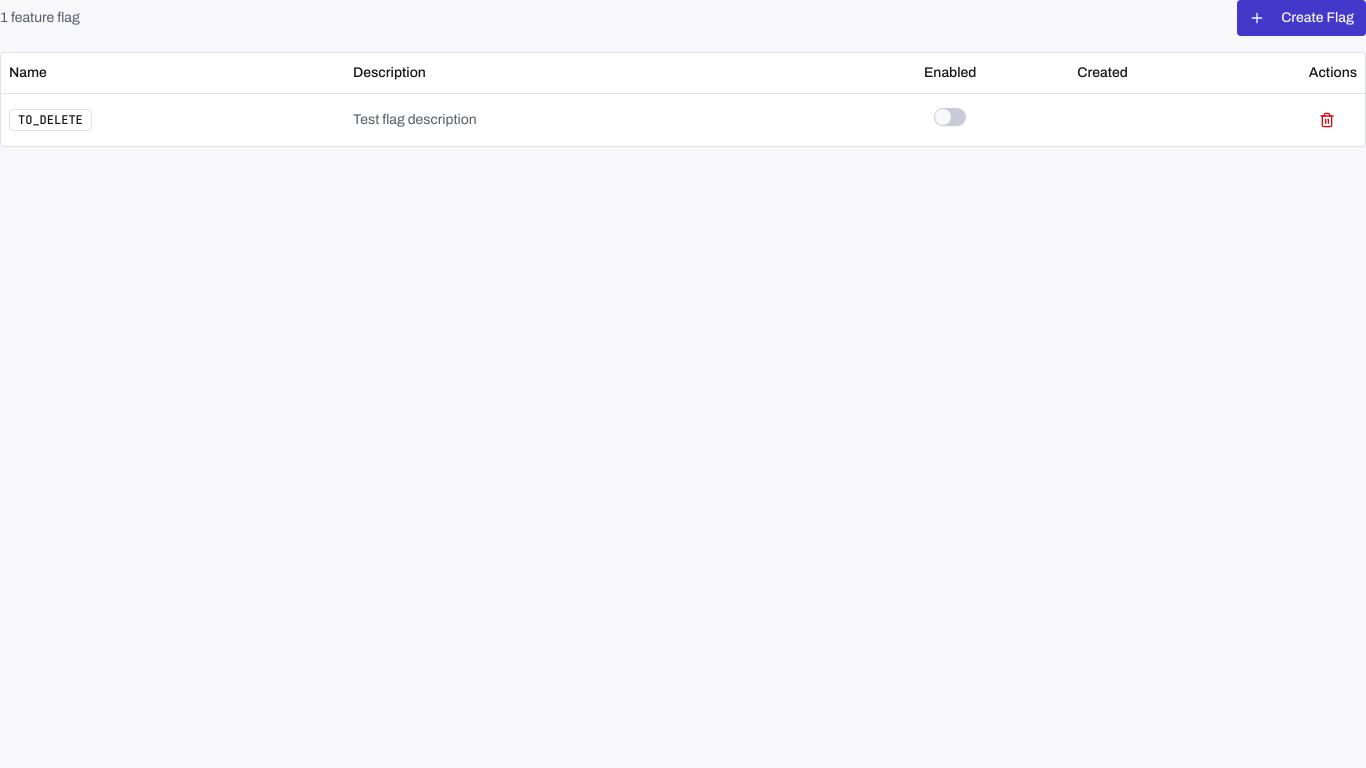
Scenario: components/admin/feature-flag-list › delete functionality › should remove flag from list after successful deletion
The image size is (1366, 768).
Step 1. Click the 3rd button → (1327, 120), box [1309,102,1345,138]
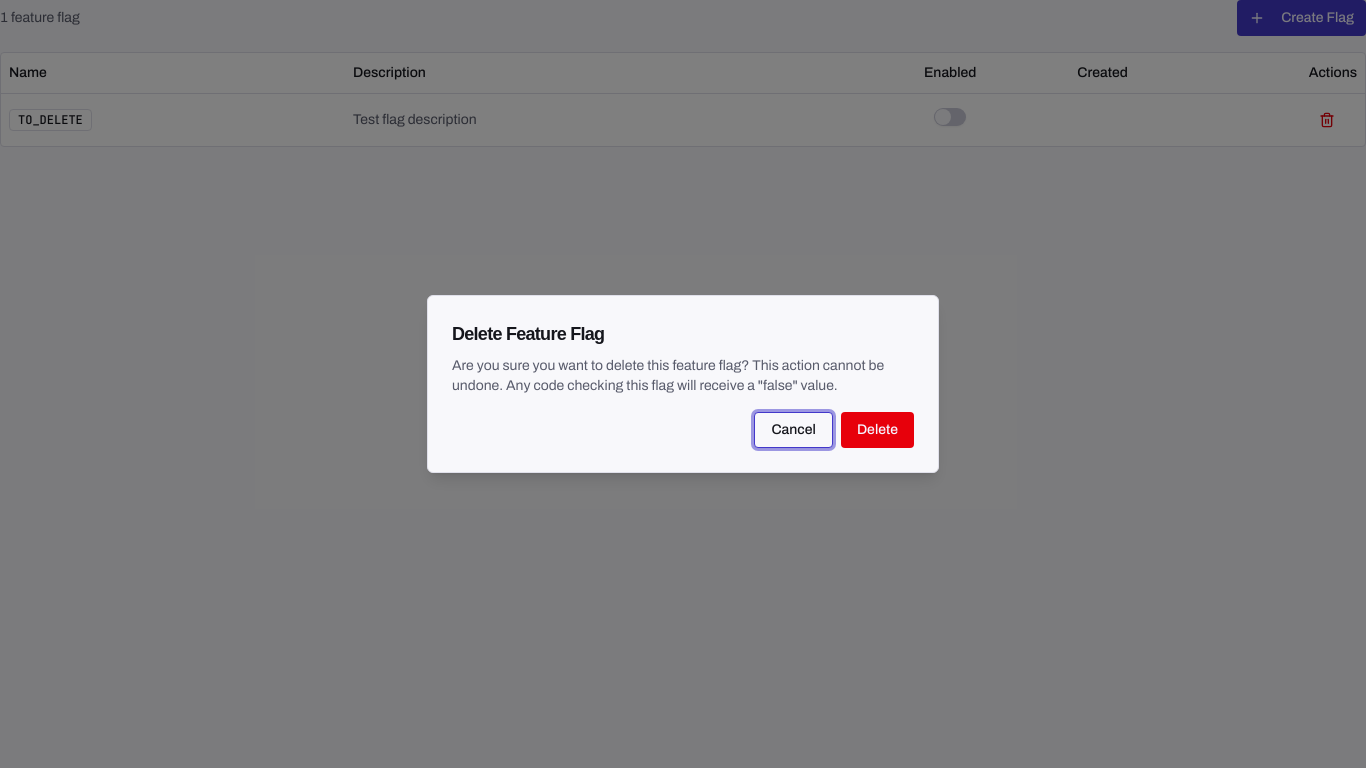
Check: the dialog is shown, box [427,295,939,473]
Step 2. Click the button "Delete" → (877, 430), box [841,412,914,448]
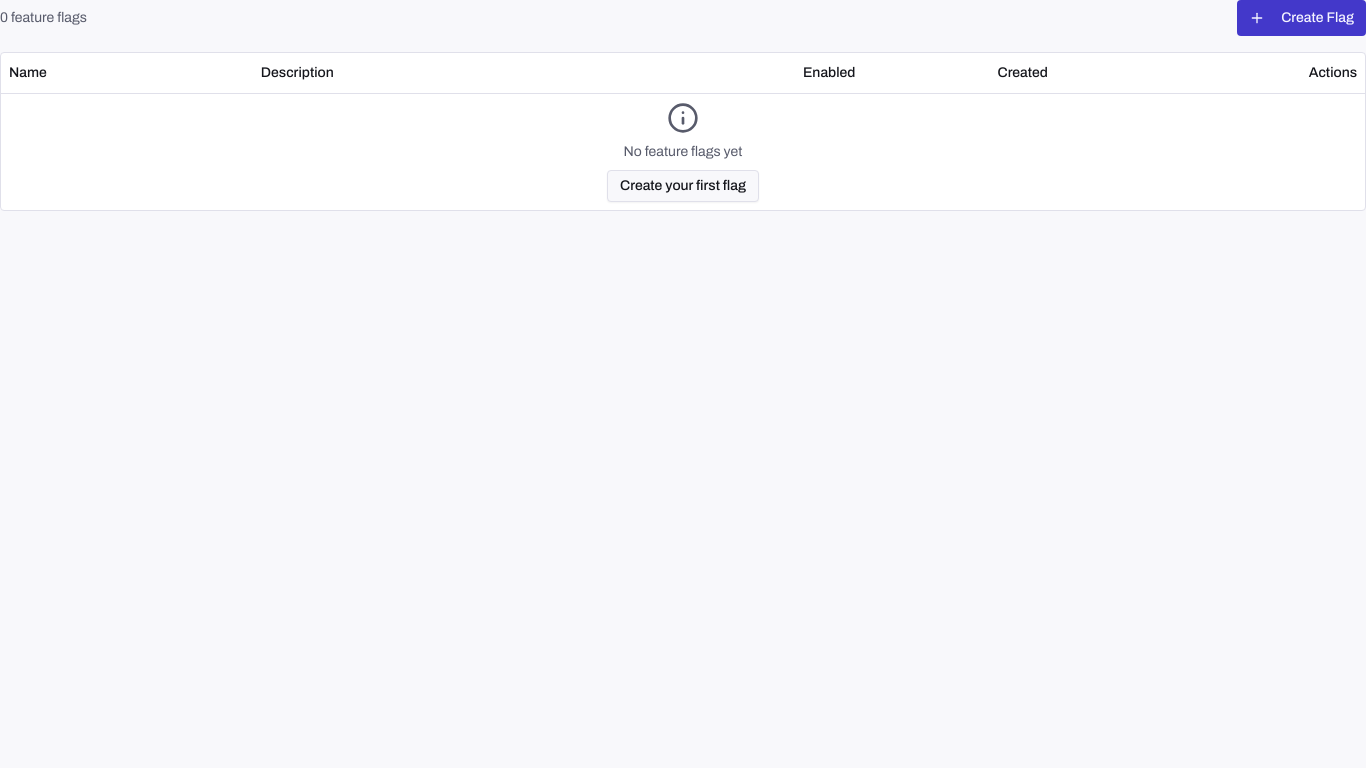
Check: the button "TO_DELETE" is gone
